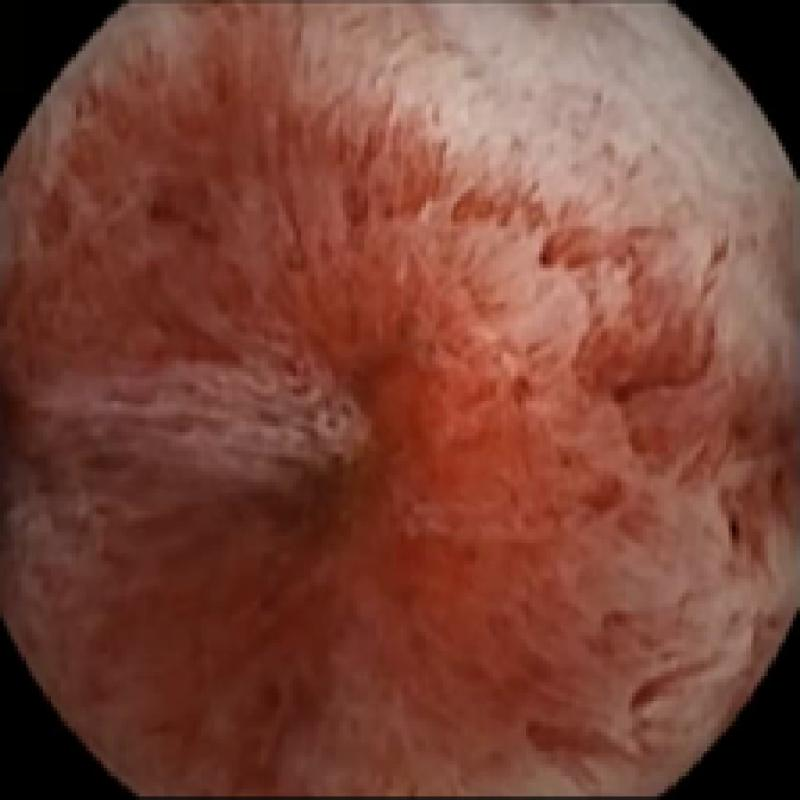bleeding: (0, 207, 618, 800)
